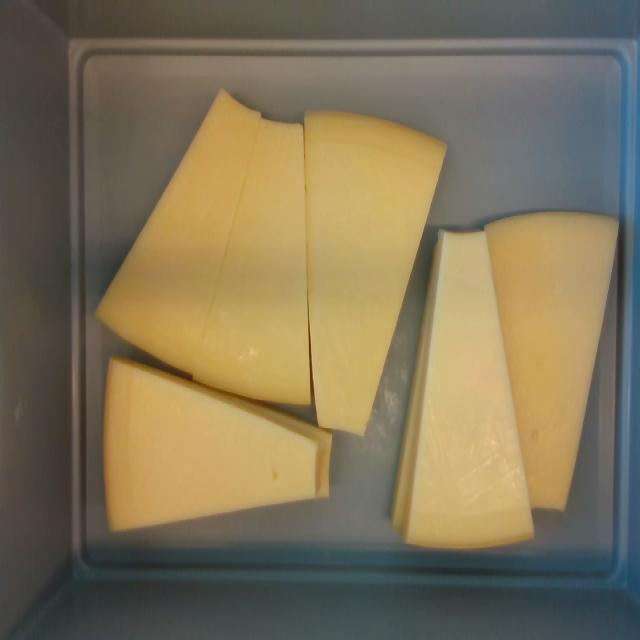cheese: (305, 110, 451, 440), (96, 88, 261, 376), (407, 229, 536, 549), (485, 212, 620, 510), (103, 358, 318, 532), (193, 119, 312, 405)
